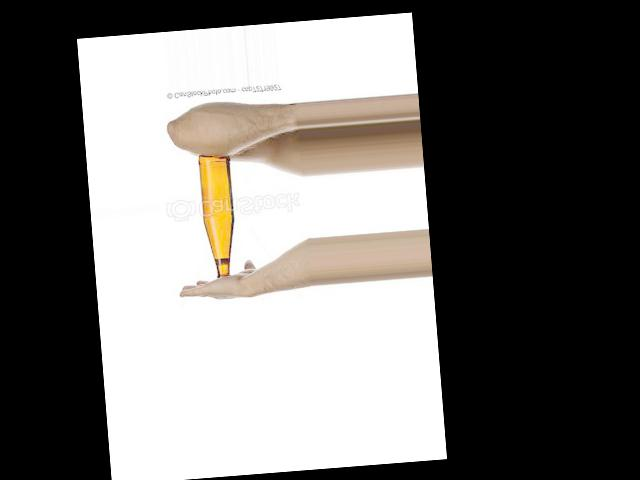beer: (197, 154, 240, 280)
